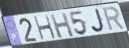2: (19, 18, 38, 43)
5: (68, 10, 90, 36)
H: (50, 11, 76, 40), (33, 14, 58, 42)
J: (90, 7, 107, 34)
R: (101, 6, 127, 33)
